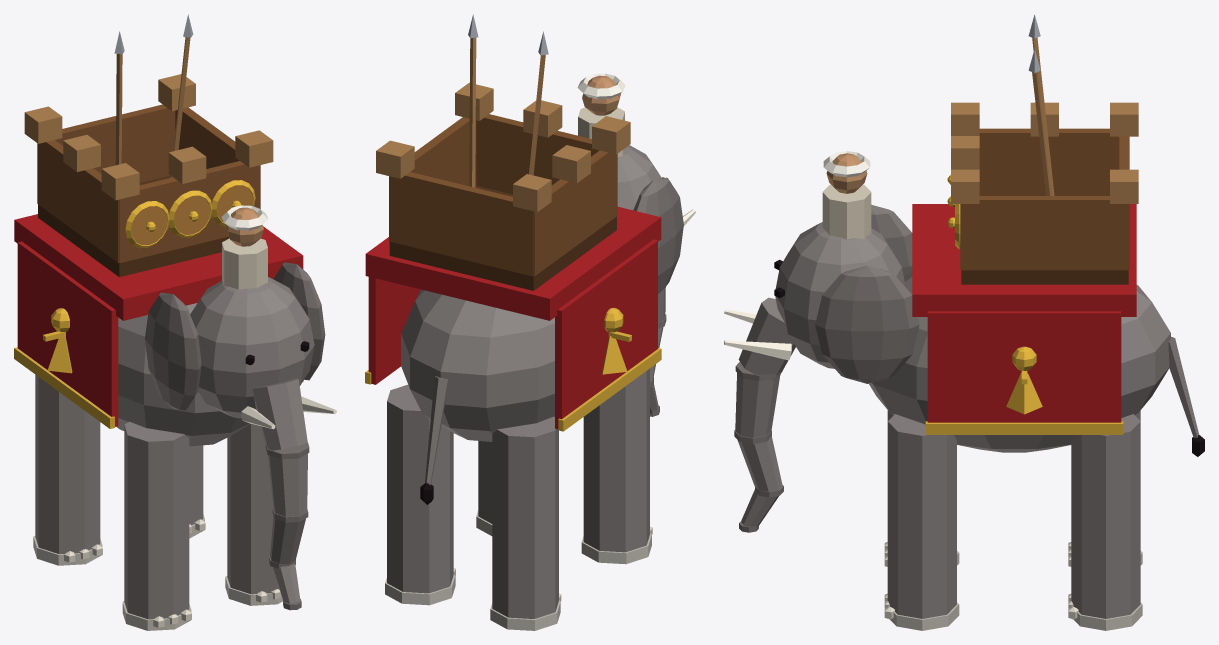
File: slon.glb
The picture shows the model from 3 angles, left to right: view 1: azimuth 30°, elevation 25°; view 2: azimuth 150°, elevation 25°; view 3: azimuth 270°, elevation 25°; orthographic projection. The views are drawn at different scales.
Parts seen in each view (by area): view 1: slon, slon_noga_lp, slon_noga_lt, slon_noga_pp, slon_traba, slon_ucho_l, slon_ucho_p, slon_noga_pt; view 2: slon, slon_noga_lt, slon_noga_pt, slon_noga_lp, slon_ucho_l, slon_ogon, slon_noga_pp, slon_traba; view 3: slon, slon_noga_pp, slon_noga_pt, slon_ucho_p, slon_traba, slon_ucho_l, slon_ogon.
Boxes of the visible parts, x1,y1,x2,y2 form: slon: [14, 14, 336, 446]; slon_noga_lp: [122, 421, 191, 630]; slon_noga_lt: [33, 375, 102, 565]; slon_noga_pp: [225, 424, 282, 605]; slon_traba: [252, 378, 309, 610]; slon_ucho_l: [145, 292, 201, 410]; slon_ucho_p: [273, 262, 325, 380]; slon_noga_pt: [189, 445, 205, 538]; slon: [365, 14, 695, 441]; slon_noga_lt: [490, 416, 561, 630]; slon_noga_pt: [385, 384, 455, 605]; slon_noga_lp: [581, 368, 652, 564]; slon_ucho_l: [633, 177, 683, 293]; slon_ogon: [420, 376, 448, 504]; slon_noga_pp: [476, 441, 492, 535]; slon_traba: [650, 287, 666, 416]; slon: [724, 14, 1170, 452]; slon_noga_pp: [884, 414, 959, 630]; slon_noga_pt: [1068, 414, 1142, 630]; slon_ucho_p: [815, 265, 919, 383]; slon_traba: [734, 297, 795, 532]; slon_ucho_l: [871, 204, 912, 276]; slon_ogon: [1168, 336, 1204, 456].
Bounding box in the file's own units: 1.34 × 3.02 × 2.36.
